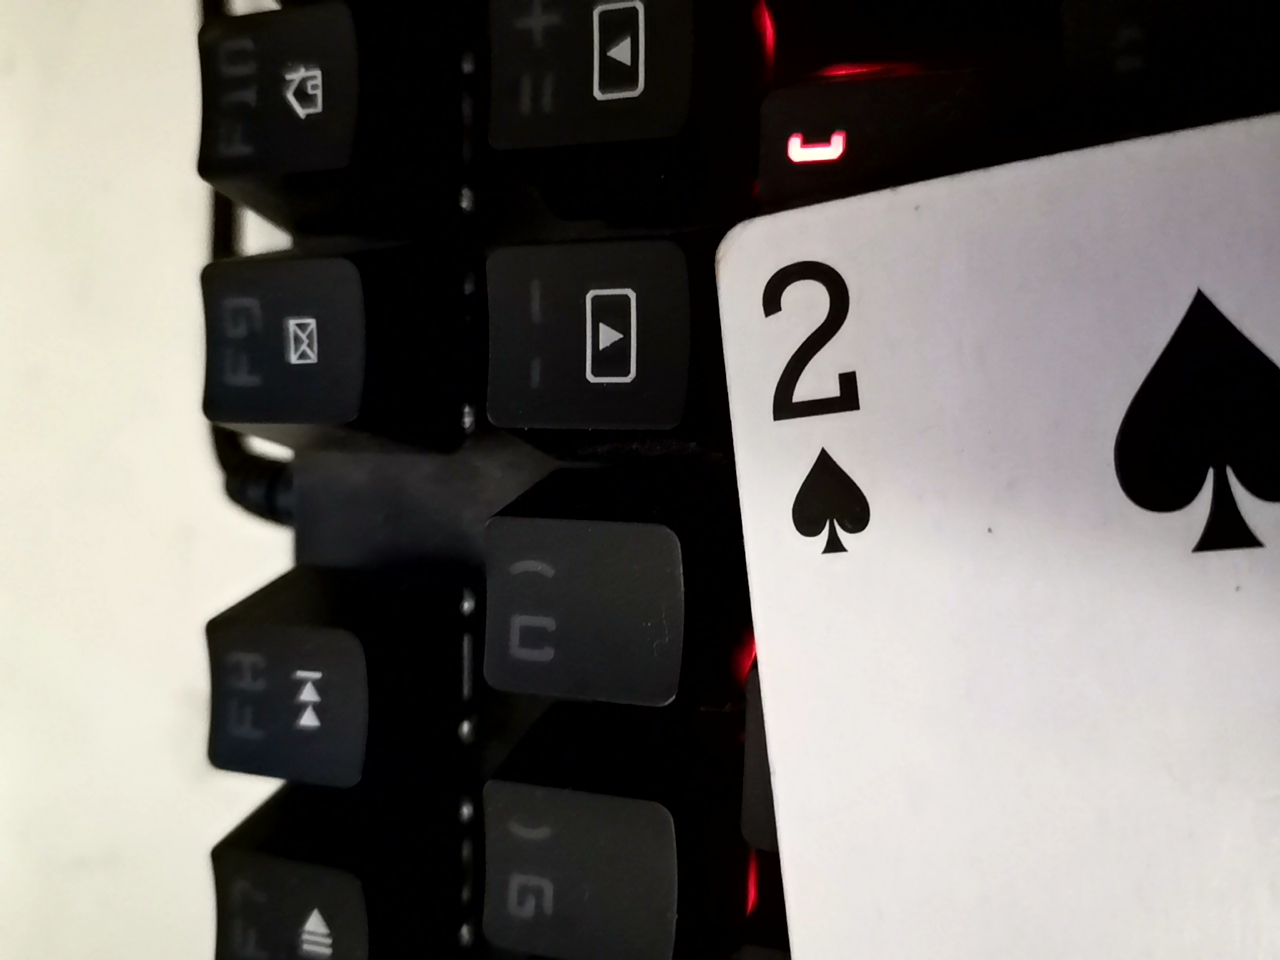ht 2: (707, 73, 1277, 952)
